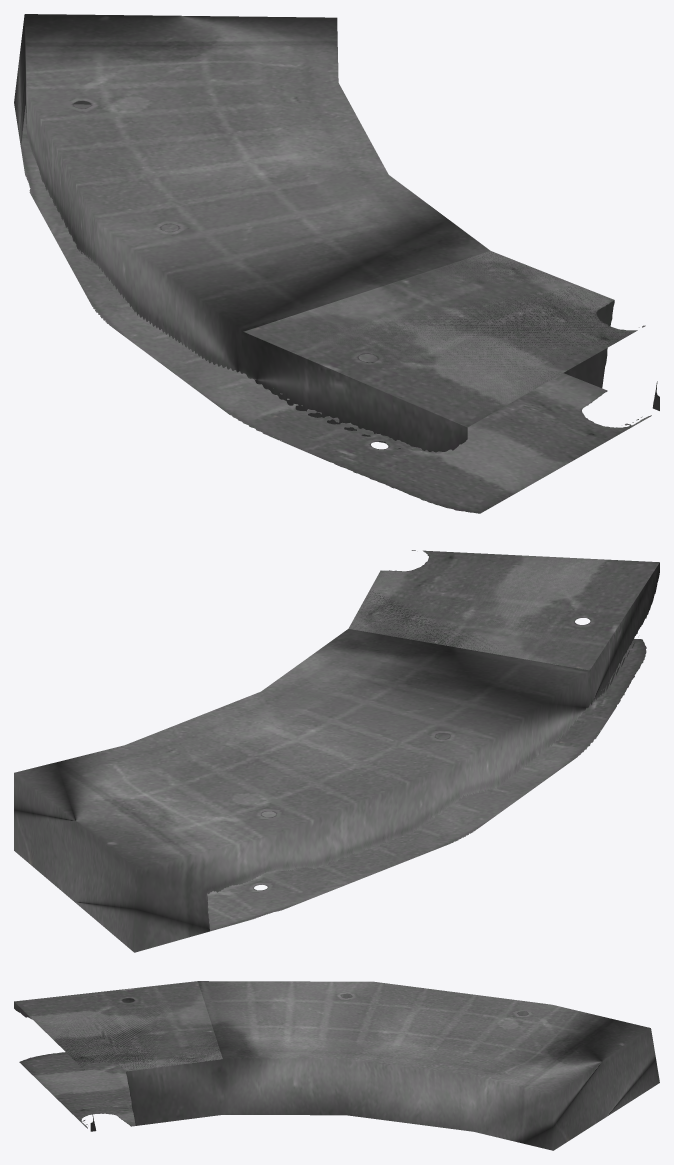
Rendered from weapon_ak47_tactical_clip_LOD0.obj.
3 renders of one model, top to bottom at view 1: azimuth 30°, elevation 25°; view 2: azimuth 150°, elevation 25°; view 3: azimuth 270°, elevation 25°, orthographic. The views are drawn at different scales.
Parts seen in each view (by area): view 1: mtl_weapon_ak47_tactical; view 2: mtl_weapon_ak47_tactical; view 3: mtl_weapon_ak47_tactical.
Boxes of the visible parts, bbox=[...] form: mtl_weapon_ak47_tactical: bbox=[14, 14, 659, 513]; mtl_weapon_ak47_tactical: bbox=[14, 550, 659, 952]; mtl_weapon_ak47_tactical: bbox=[14, 981, 659, 1150].
Bounding box in the file's own units: 9.34 × 2.13 × 22.36.
